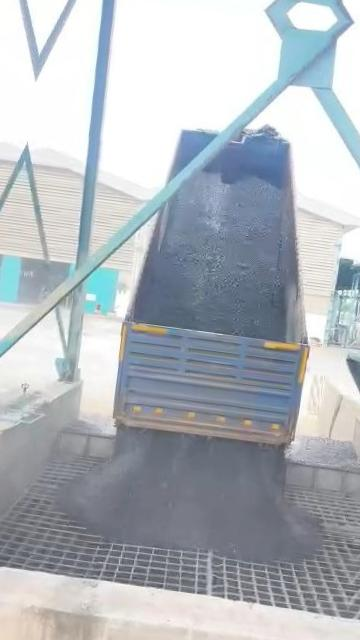gravel: (58, 428, 322, 563), (135, 171, 288, 339), (287, 436, 360, 472)
